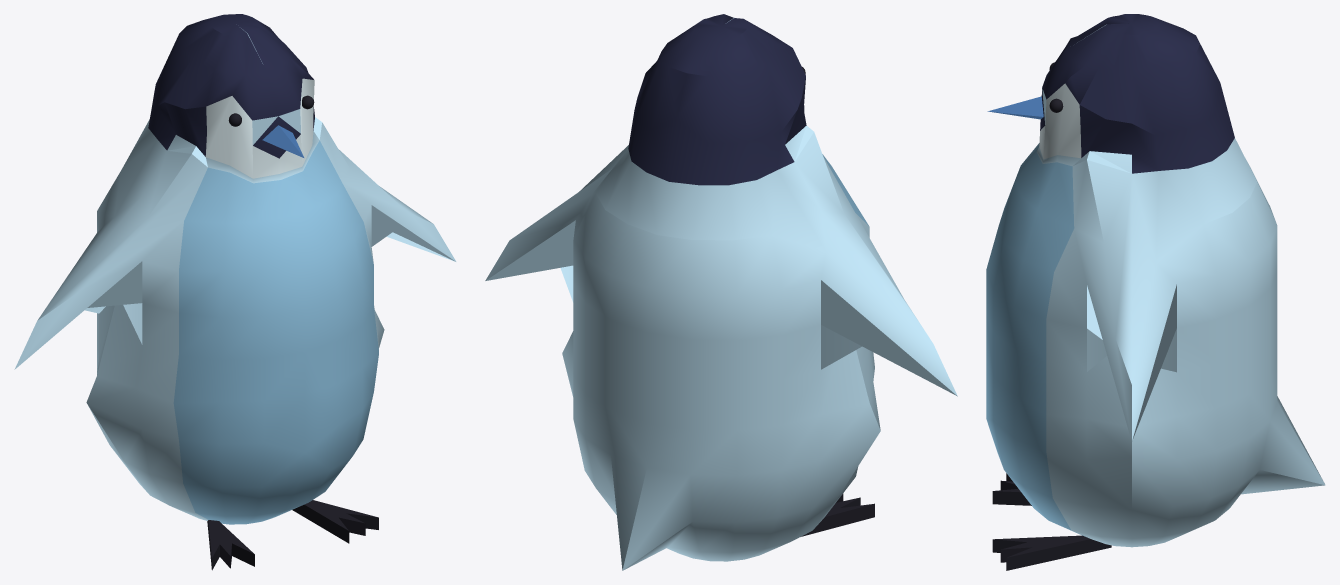
File: penguin2-2.fbx
The picture shows the model from 3 angles, left to right: view 1: azimuth 30°, elevation 25°; view 2: azimuth 150°, elevation 25°; view 3: azimuth 270°, elevation 25°; orthographic projection. The views are drawn at different scales.
Visible parts, largest first — view 1: body, foot, kuchibashi; view 2: body, foot; view 3: body, foot, kuchibashi.
Boxes of the visible parts, <box> form: body: <box>14,14,456,524</box>; foot: <box>207,500,378,570</box>; kuchibashi: <box>262,125,304,157</box>; body: <box>485,14,957,570</box>; foot: <box>801,493,874,536</box>; body: <box>986,14,1325,547</box>; foot: <box>992,473,1111,570</box>; kuchibashi: <box>987,96,1043,119</box>.
Bounding box in the file's own units: 183 × 194 × 117.
